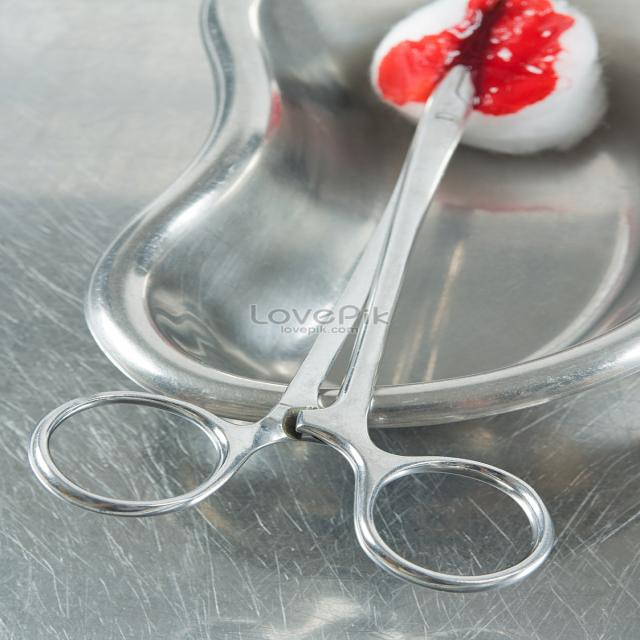B3: (368, 0, 594, 119)
